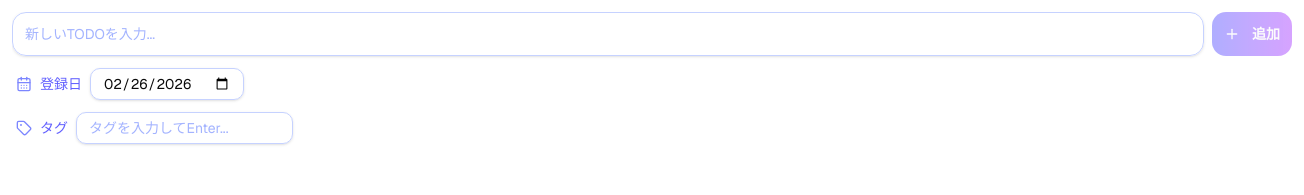
Scenario: TodoInput › タグ入力 › Enterでタグを追加できる
The width and height of the screenshot is (1304, 195).
Type "仕事" into the field with placeholder "タグを入力してEnter..." at (184, 128), box [76,112,293,144]
Then press Enter
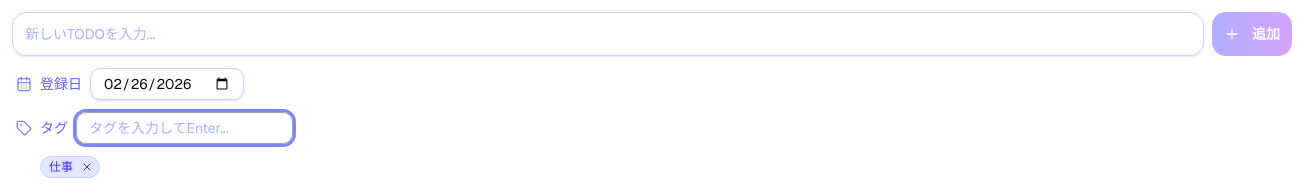
Expected: the text "仕事" is shown, [40,156,100,178]
